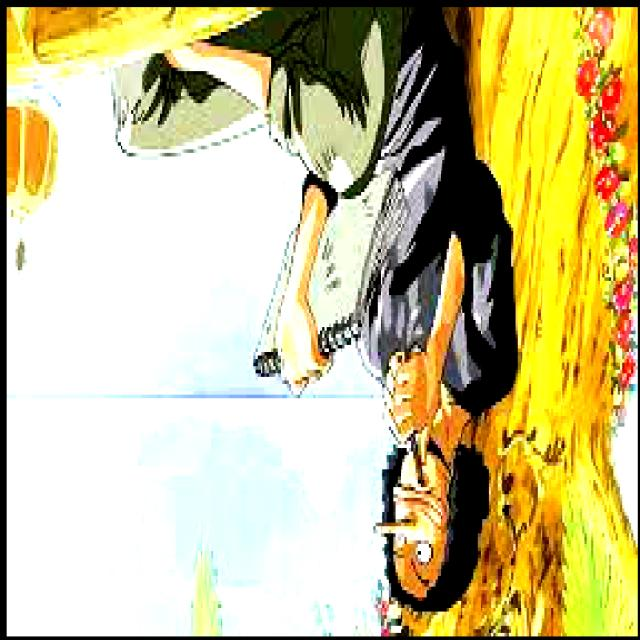Usopp: (111, 4, 518, 612)
